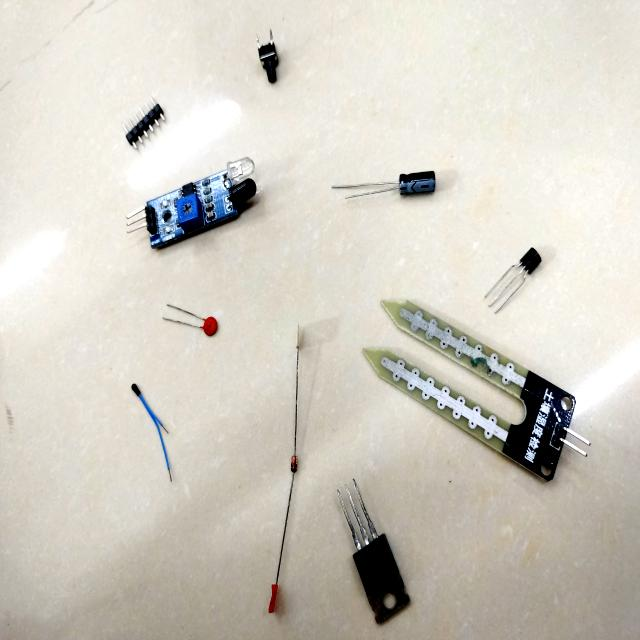capacitor: (399, 171, 436, 197), (202, 316, 218, 336)
